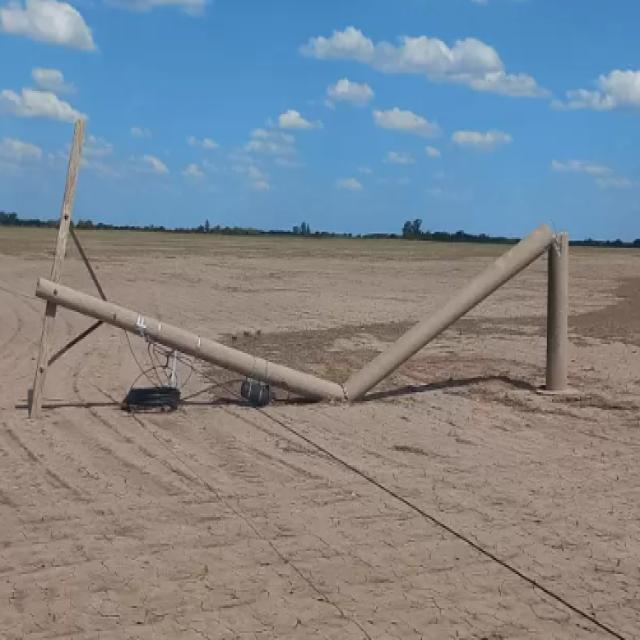light_pole: (0, 120, 574, 401)
